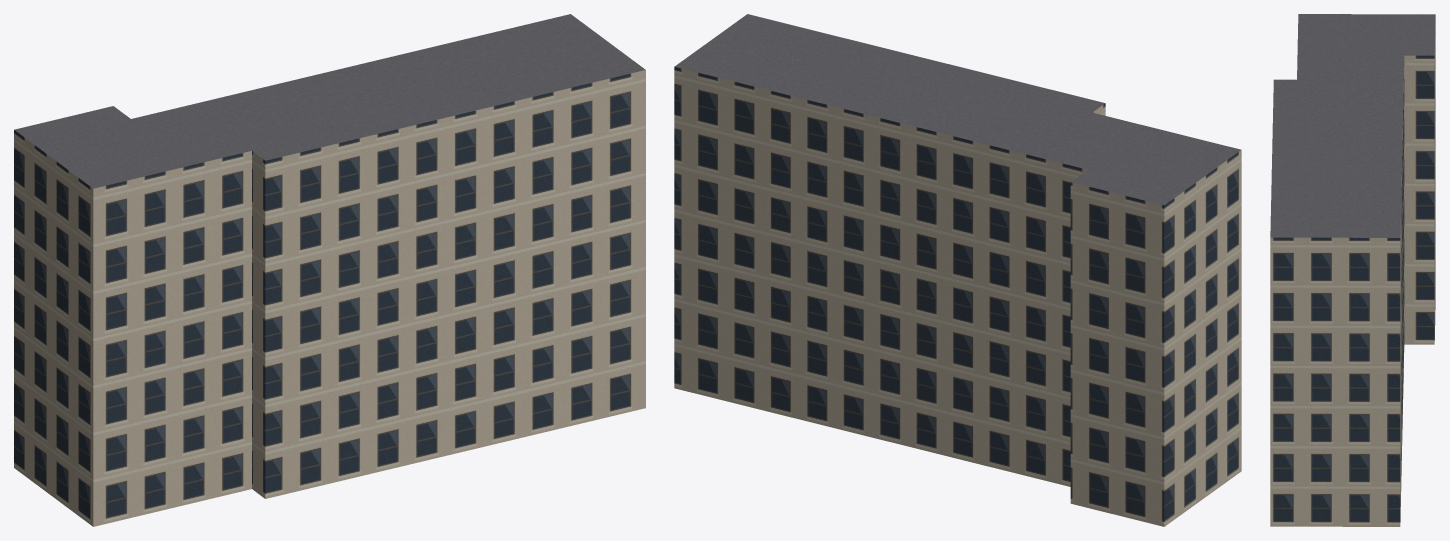
File: bin1016197.glb
The picture shows the model from 3 angles, left to right: view 1: azimuth 30°, elevation 25°; view 2: azimuth 150°, elevation 25°; view 3: azimuth 270°, elevation 25°; orthographic projection. The views are drawn at different scales.
Parts seen in each view (by area): view 1: c2, c1, c5, c4, c11, c8, c10, c0, c3, c7, c9, c6; view 2: c2, c1, c8, c5, c7, c0, c4, c11, c6, c3, c10, c9; view 3: c8, c7, c2, c6, c5, c11, c1, c0, c4.
Part boxes in pixels (x1,y1,x2,y2): c2: (14, 104, 225, 289); c1: (14, 231, 225, 434); c5: (194, 72, 397, 261); c4: (225, 230, 397, 406); c11: (327, 52, 535, 229); c8: (411, 14, 645, 197); c10: (398, 197, 535, 374); c0: (14, 376, 225, 526); c3: (225, 375, 397, 498); c7: (536, 171, 645, 341); c9: (398, 342, 535, 467); c6: (536, 316, 645, 434); c2: (1028, 119, 1241, 301); c1: (1028, 246, 1241, 438); c8: (674, 14, 850, 200); c5: (903, 72, 1116, 250); c7: (674, 163, 825, 337); c0: (1028, 384, 1241, 526); c4: (903, 220, 1028, 388); c11: (825, 40, 980, 219); c6: (674, 300, 825, 425); c3: (903, 358, 1028, 476); c10: (825, 200, 903, 357); c9: (825, 338, 903, 445); c8: (1270, 171, 1401, 324); c7: (1270, 258, 1401, 447); c2: (1297, 14, 1435, 164); c6: (1270, 382, 1401, 526); c5: (1272, 69, 1403, 211); c11: (1271, 134, 1402, 242); c1: (1403, 107, 1435, 288); c0: (1403, 231, 1435, 367); c4: (1402, 181, 1403, 334).
Size of the model in its own units: 41.81 by 25.16 by 13.04.
Materials: 3 (3 with a texture image).
